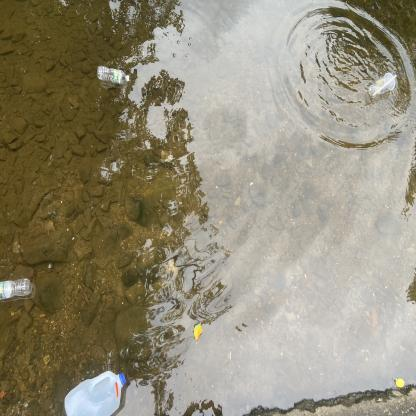trash: (56, 367, 134, 416), (365, 65, 402, 105), (94, 58, 135, 90), (0, 273, 36, 304)
